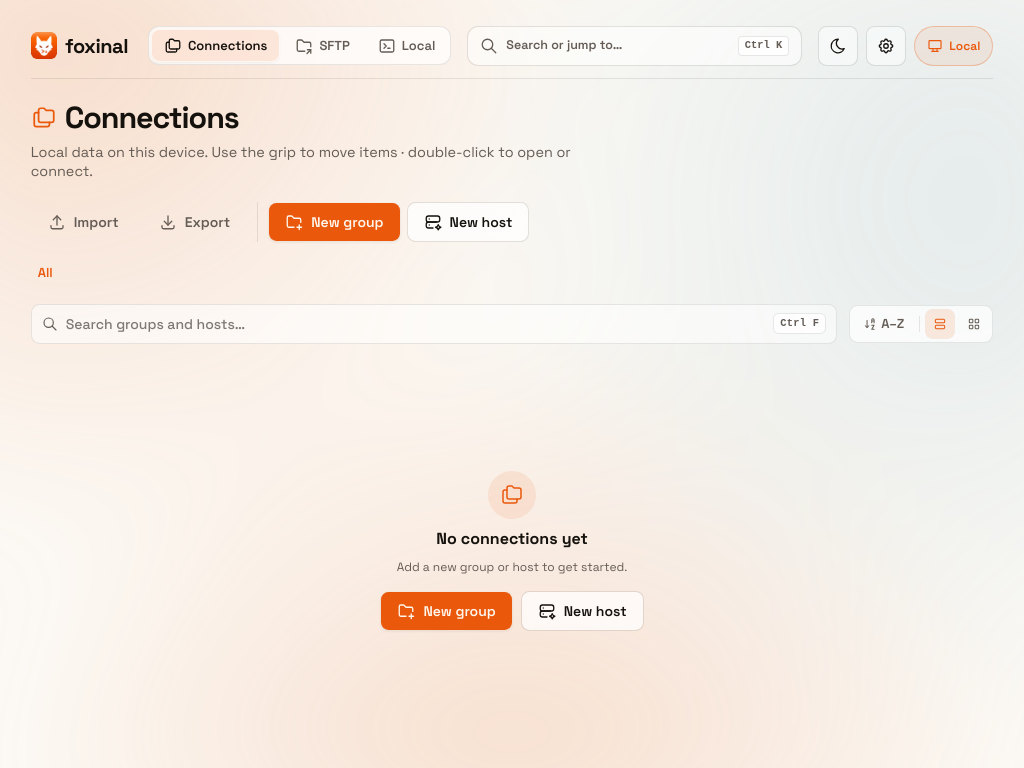
Test: Dashboard Detach and Reattach Subsystem › allows popping out a session tab into an independent window and re-attaching it
Note: Open a local terminal session
Click the button "Local".
click(407, 46)  # box [365,29,448,62]
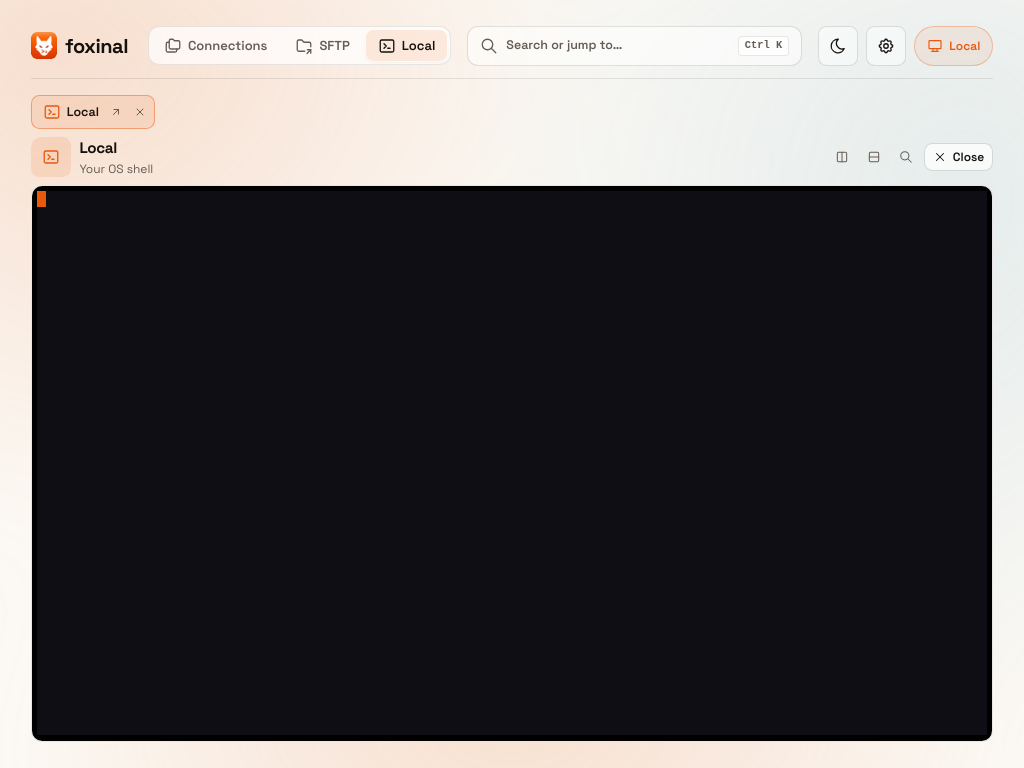
Expected: the tab "Local" is shown, [32,96,104,128]
Expected: the button titled "Detach tab to new independent window" is shown
Note: Click detach button
Click the button titled "Detach tab to new independent window".
click(116, 112)  # box [104,100,128,124]
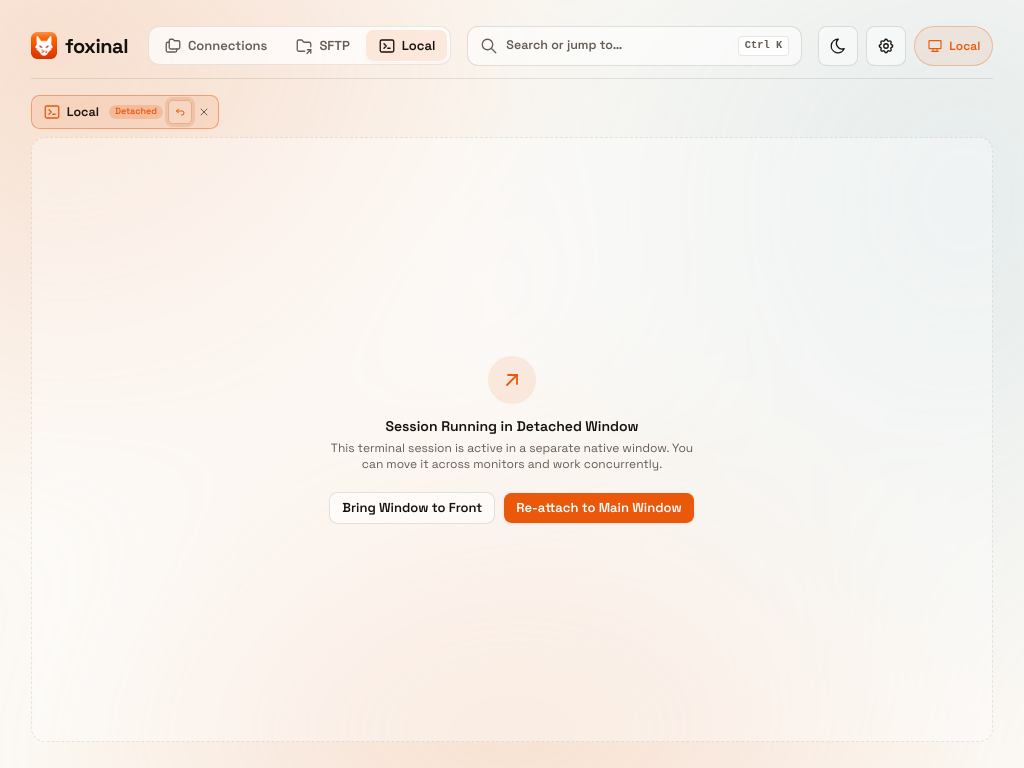
Expected: the text "Detached" is shown, [109,105,163,119]
Expected: the heading "Session Running in Detached Window" is shown, [385,417,639,435]
Click the button "Bring Window to Front".
click(412, 508)  # box [329,492,495,524]
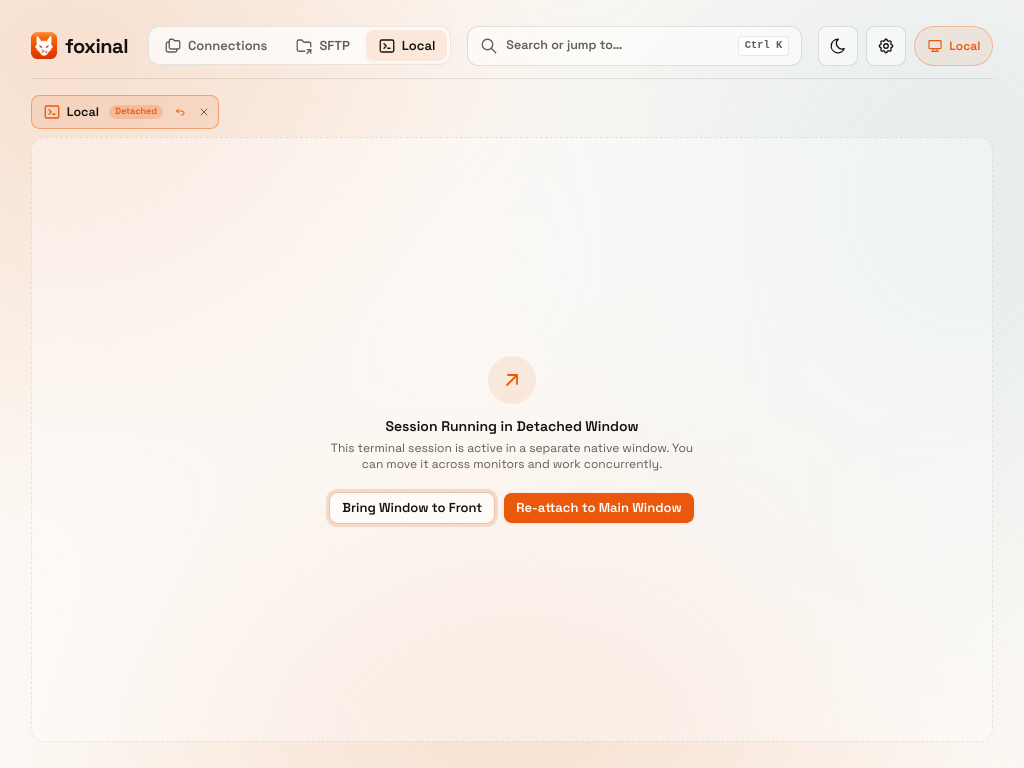
Click the button "Re-attach to Main Window".
click(599, 508)  # box [503,492,695,524]
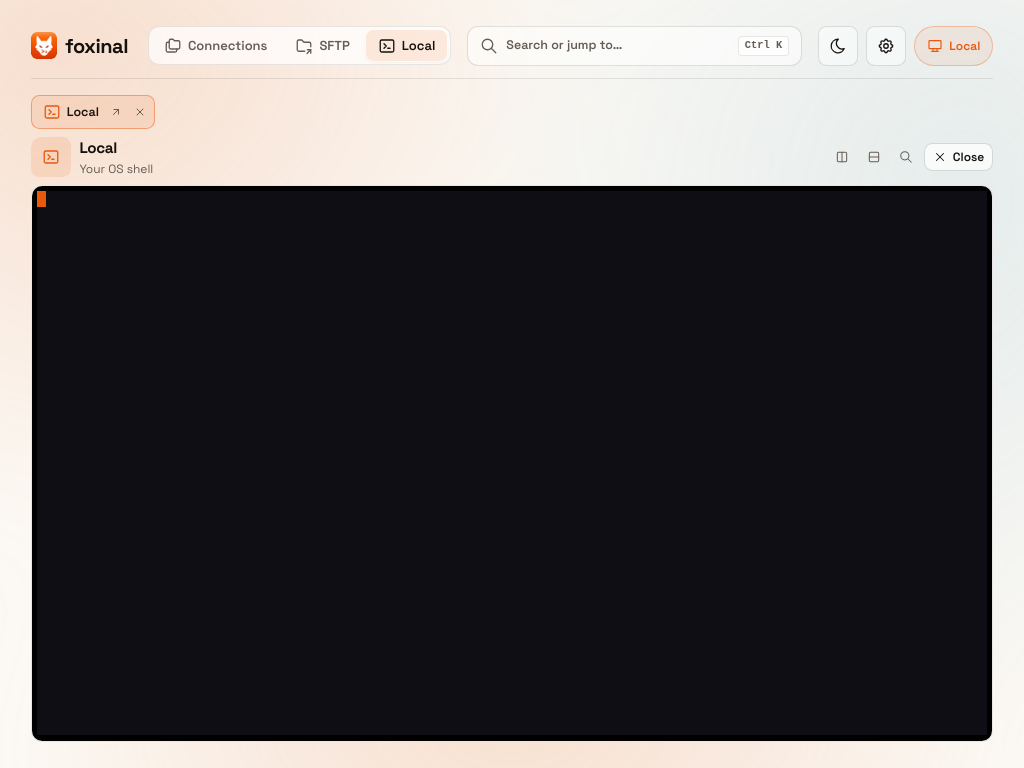
Expected: the text "Detached" is gone
Expected: the heading "Session Running in Detached Window" is gone
